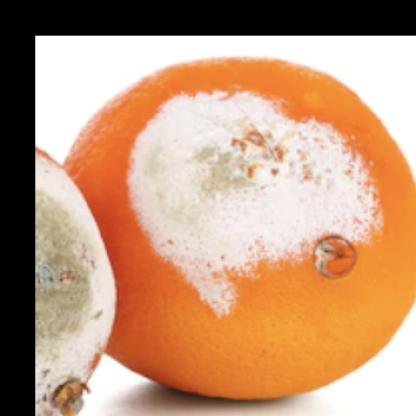rotten: (63, 60, 416, 400)
